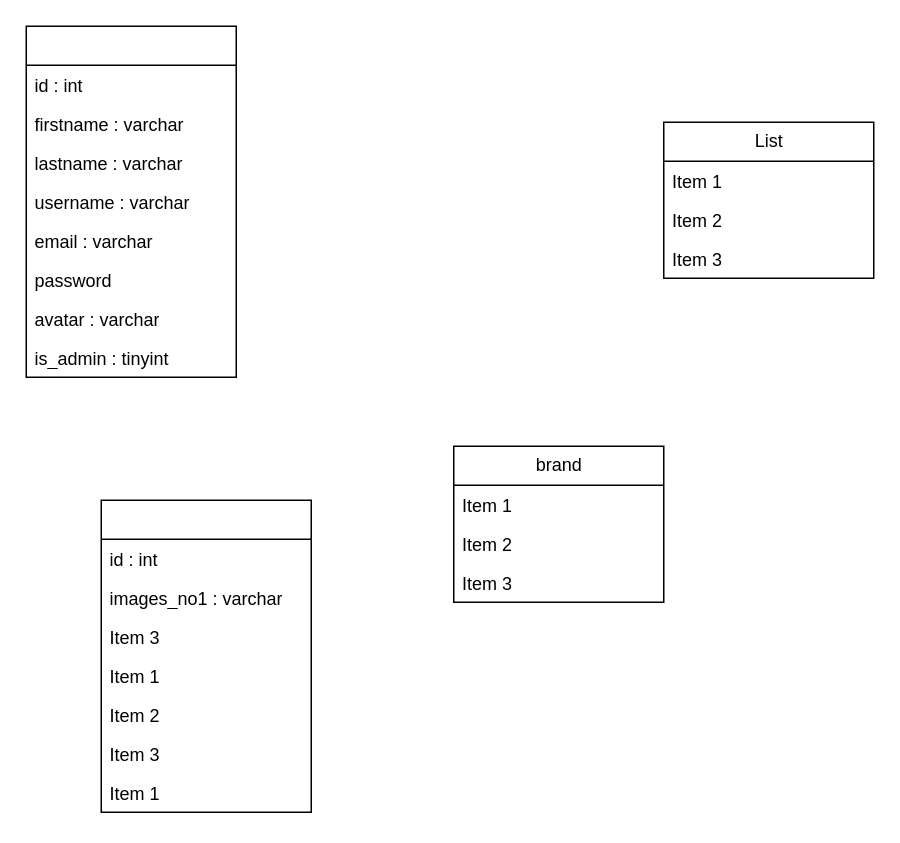
Some shapes in this 900 by 843 pixel diagram are drawn without their labels. The shapes that lost their labels are listed below. From the top down, each one's box as (x1, y1, x2, y2) in pixels, then its label:
(25, 25, 236, 377): users
(100, 499, 311, 812): products
